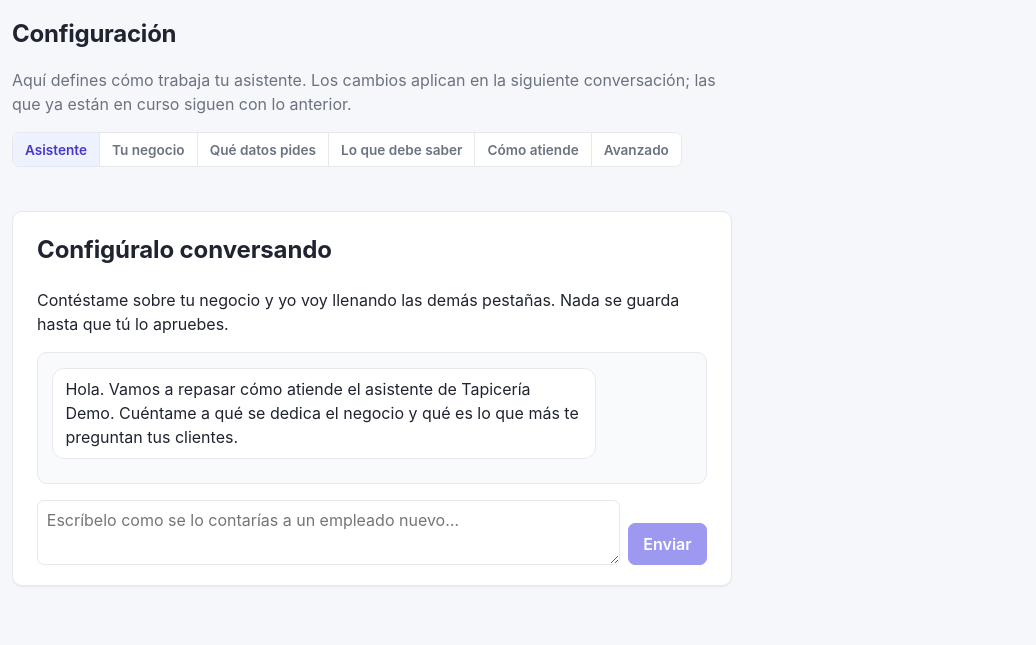
la conversación sobrevive a ir y volver de otra pestaña
In the text box named "Escríbele a tu asistente": [328, 532] box [37, 500, 620, 565], type "nos llamamos Tapicería El Roble"
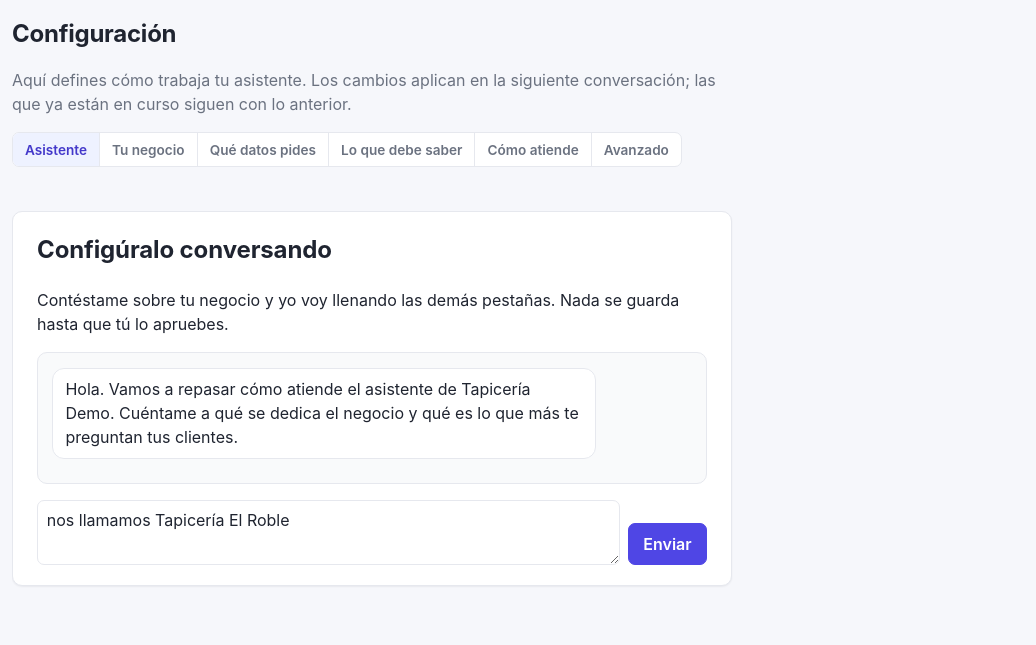
Click the button "Enviar": [667, 544] box [628, 523, 707, 565]
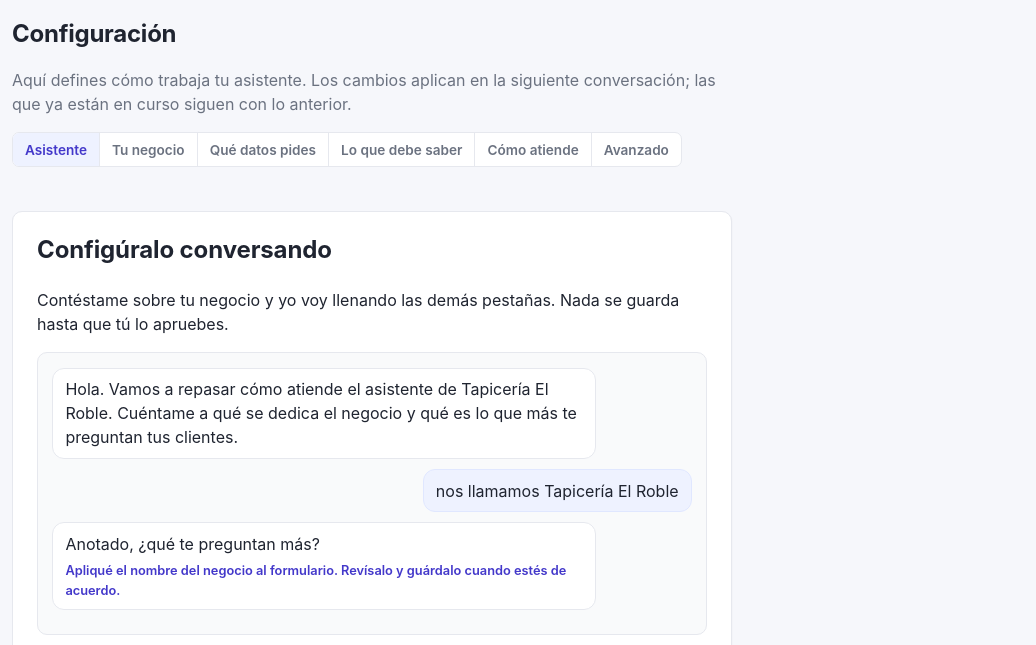
Check: the text "Anotado, ¿qué te preguntan más?" is shown, box [65, 534, 320, 554]
Click the tab "Tu negocio": [149, 150] box [100, 133, 198, 166]
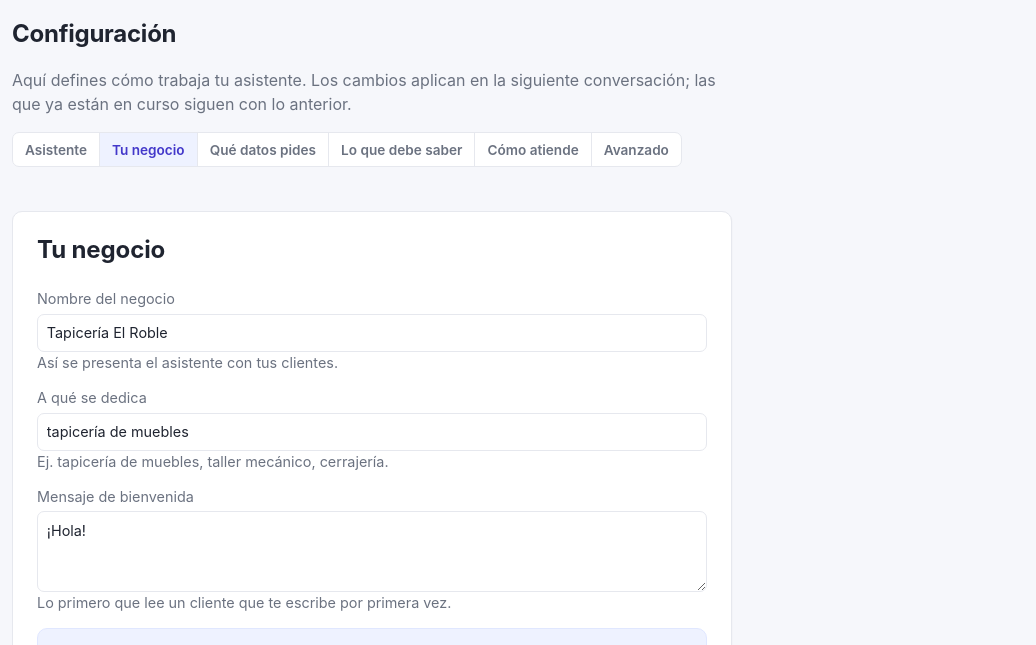
Check: the field showing "Tapicería El Roble" is shown, box [37, 314, 707, 352]
Click the tab "Asistente": [56, 150] box [13, 133, 100, 166]
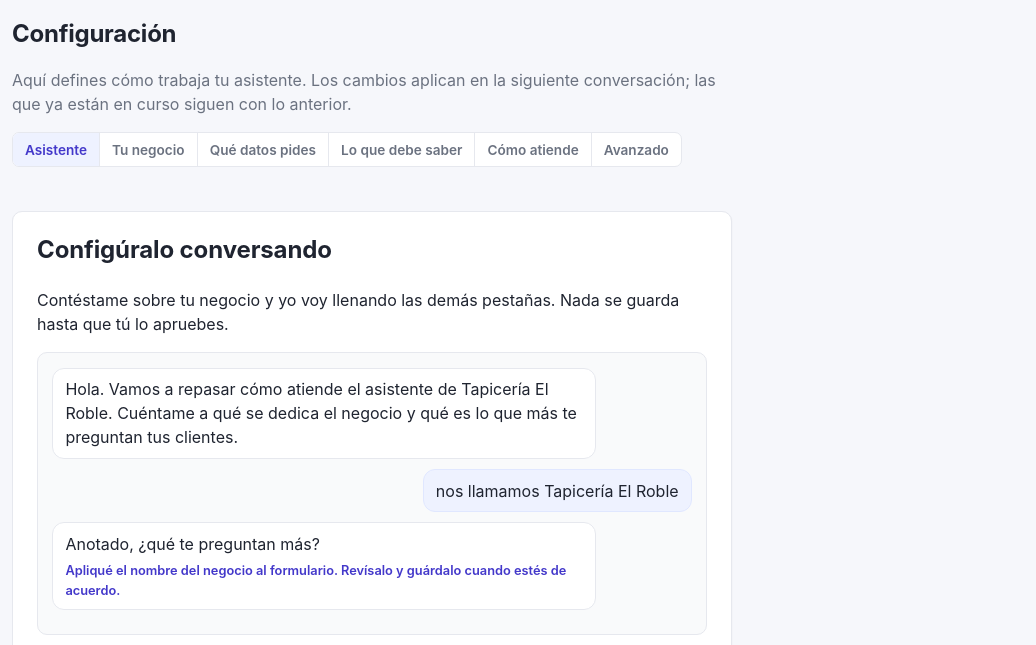
Check: the text "Anotado, ¿qué te preguntan más?" is shown, box [65, 534, 320, 554]
Check: the text "nos llamamos Tapicería El Roble" is shown, box [436, 479, 679, 503]
